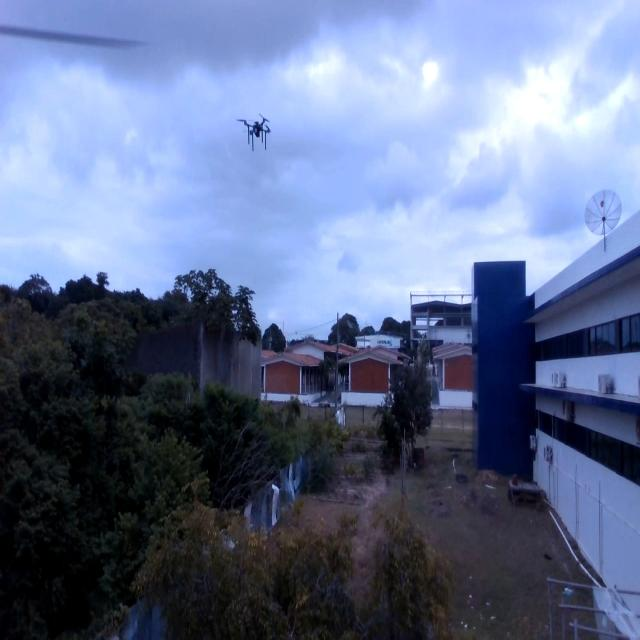-uav-: (233, 99, 279, 160)
